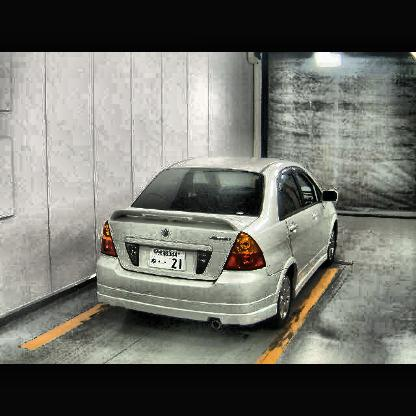Suzuki Aerio Sedan 2007: (96, 158, 340, 330)
